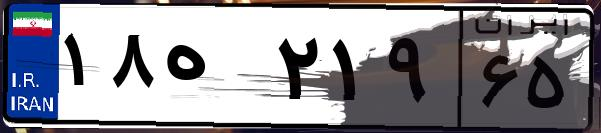1: (330, 28, 385, 110), (57, 26, 110, 100)
2: (270, 28, 330, 110)
5: (525, 38, 570, 115)
6: (475, 38, 525, 113)
8: (110, 28, 158, 98)
9: (385, 28, 445, 110)
ه: (158, 20, 270, 120)
